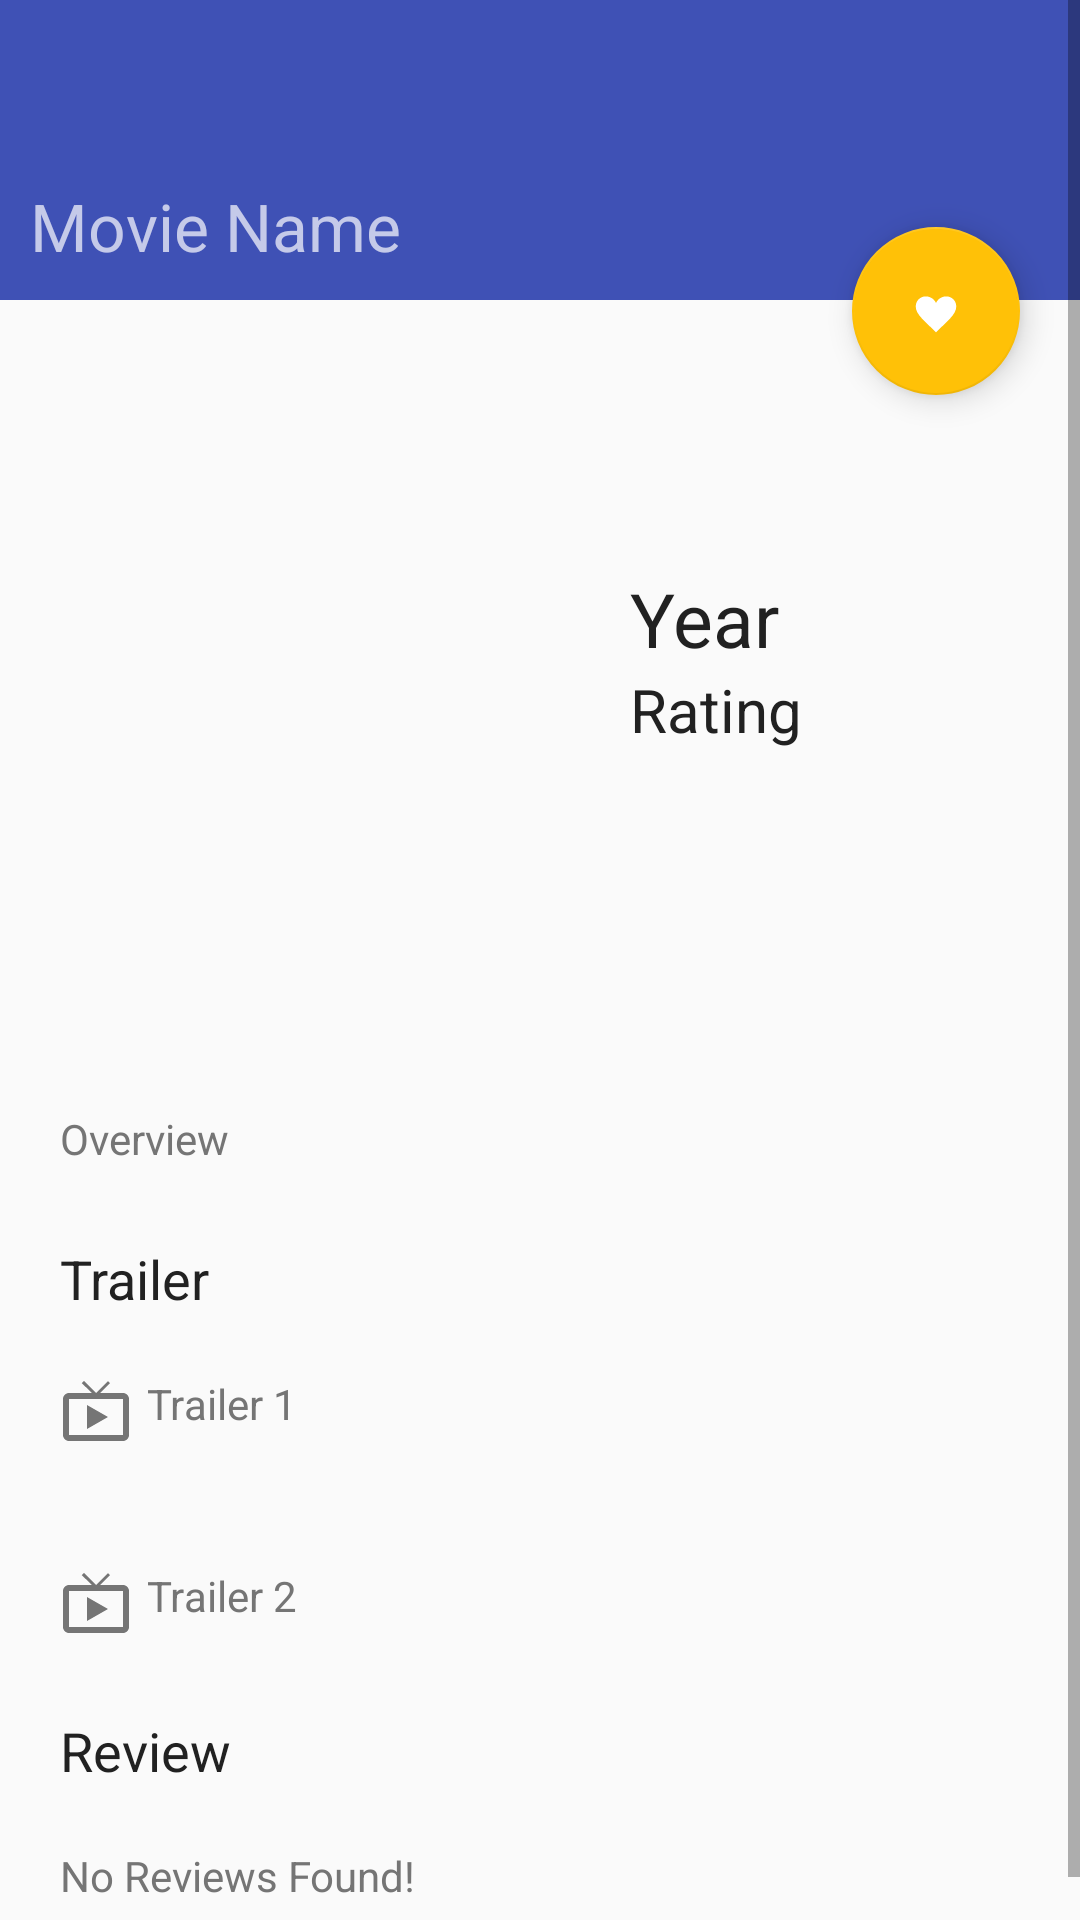

Screen size 1080x1920. Icon name, then its center in pixels as point (x, y):
heart: point (936, 311)
